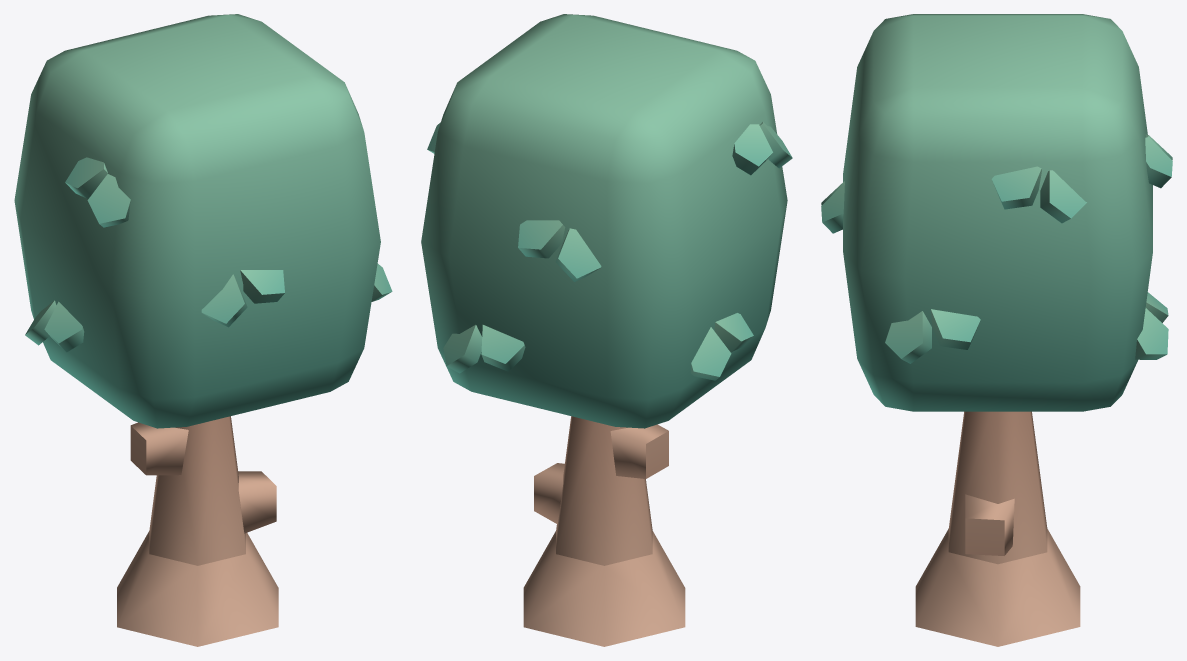
The model's file is tree.glb.
The picture shows the model from 3 angles, left to right: view 1: azimuth 30°, elevation 25°; view 2: azimuth 150°, elevation 25°; view 3: azimuth 270°, elevation 25°; orthographic projection.
Visible parts, largest first — view 1: tree; view 2: tree; view 3: tree.
Part boxes in pixels (box(x1,y1,x2,y2)): tree: box(14, 14, 392, 646); tree: box(421, 14, 792, 646); tree: box(821, 14, 1172, 646).
Size of the model in its own units: 1.09 by 1.93 by 1.11.
